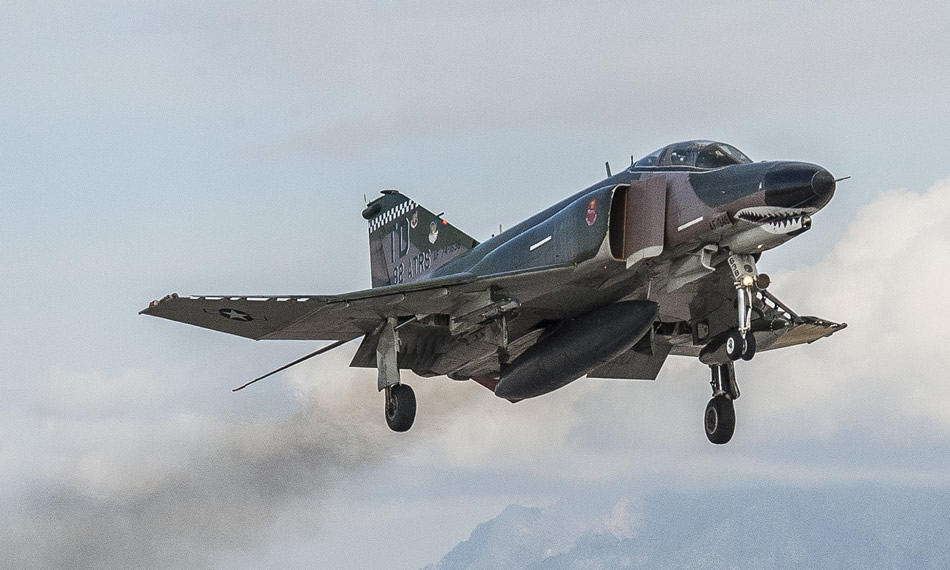F4: (137, 138, 852, 444)
